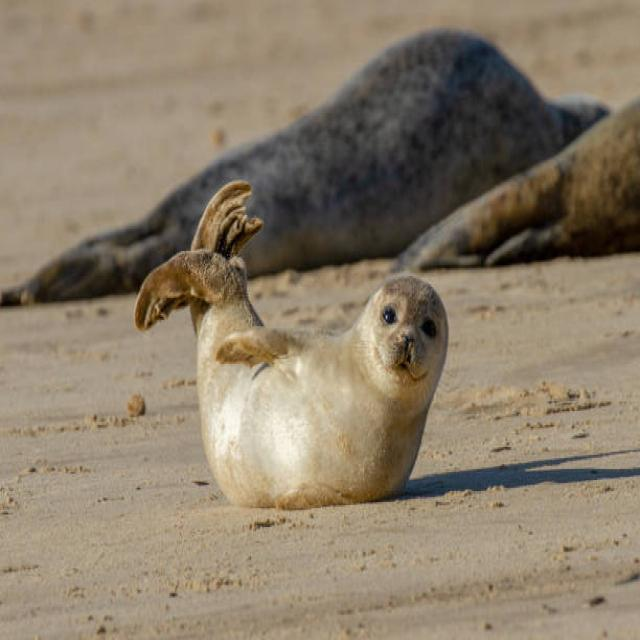WaterDog: (122, 176, 456, 518)
